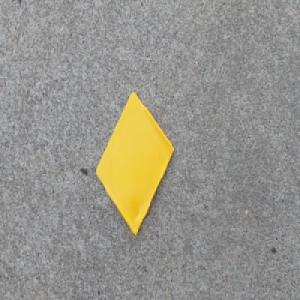PlasticPart: (95, 90, 175, 236)
